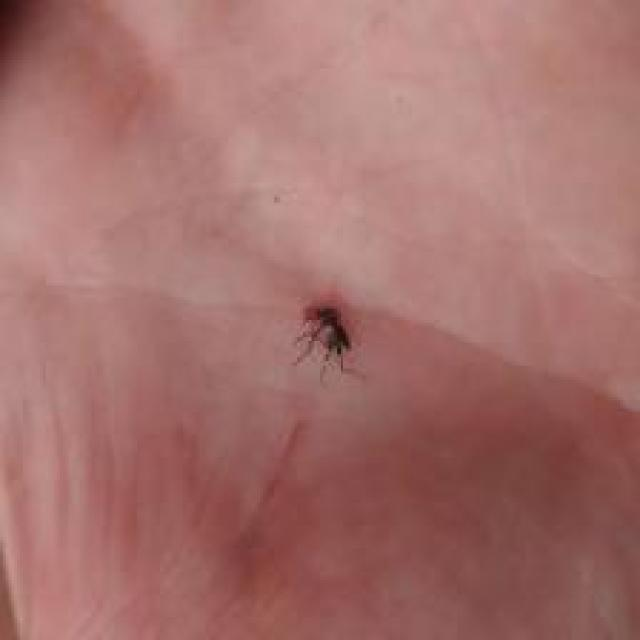Aedes albopictus: (292, 303, 354, 380)
